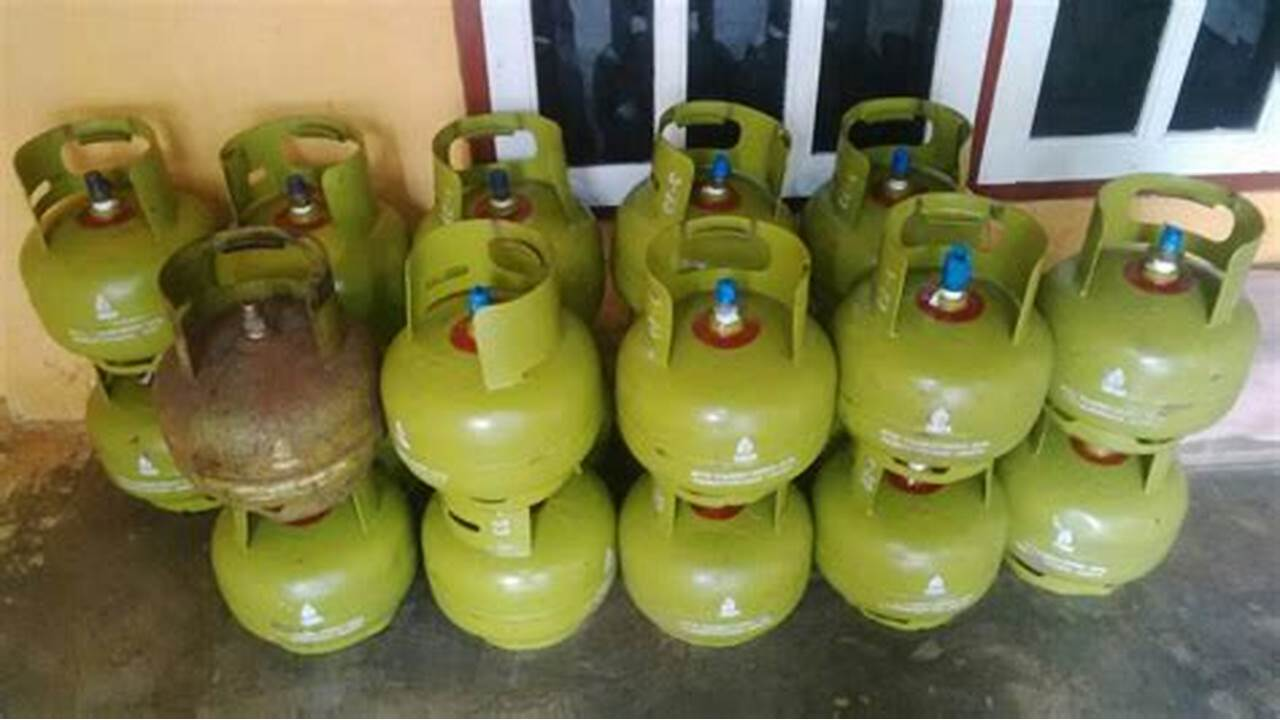gas_ijo: (142, 225, 385, 520), (383, 220, 604, 513), (1043, 173, 1265, 454), (829, 195, 1051, 474), (608, 216, 830, 492), (10, 118, 219, 370), (417, 111, 608, 320), (217, 114, 408, 315), (995, 423, 1195, 600), (424, 487, 624, 661), (617, 105, 792, 302), (211, 493, 415, 659), (617, 477, 815, 648), (816, 448, 1004, 628), (808, 100, 974, 286)
